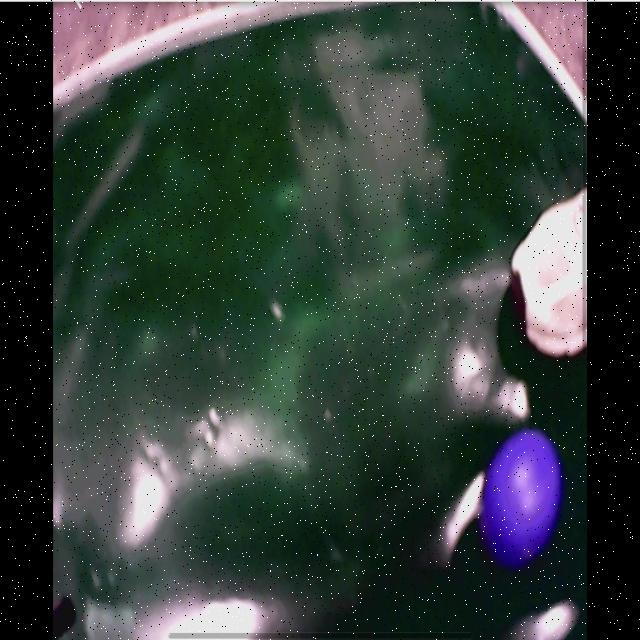ball: (485, 433, 563, 564)
